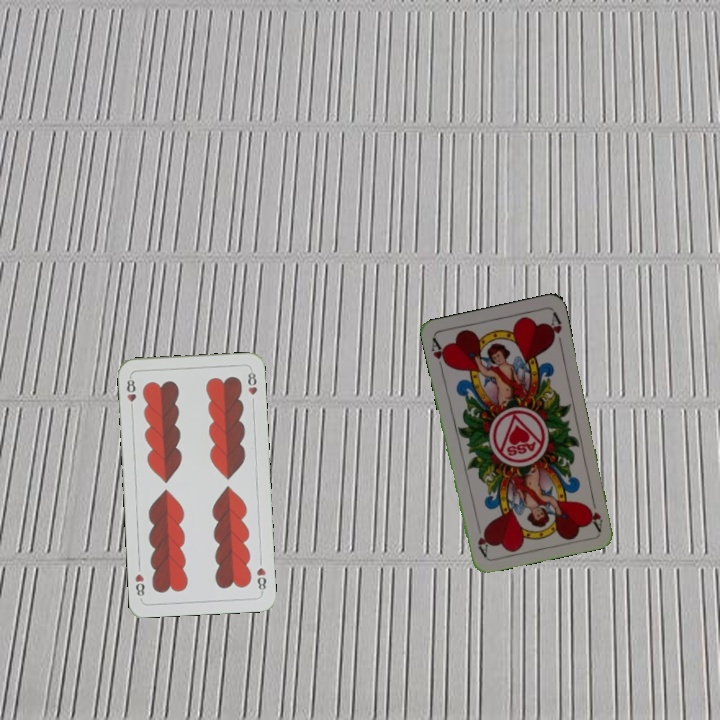H8: (123, 373, 138, 413), (253, 563, 269, 595)
HA: (427, 334, 450, 374), (585, 492, 605, 533)
